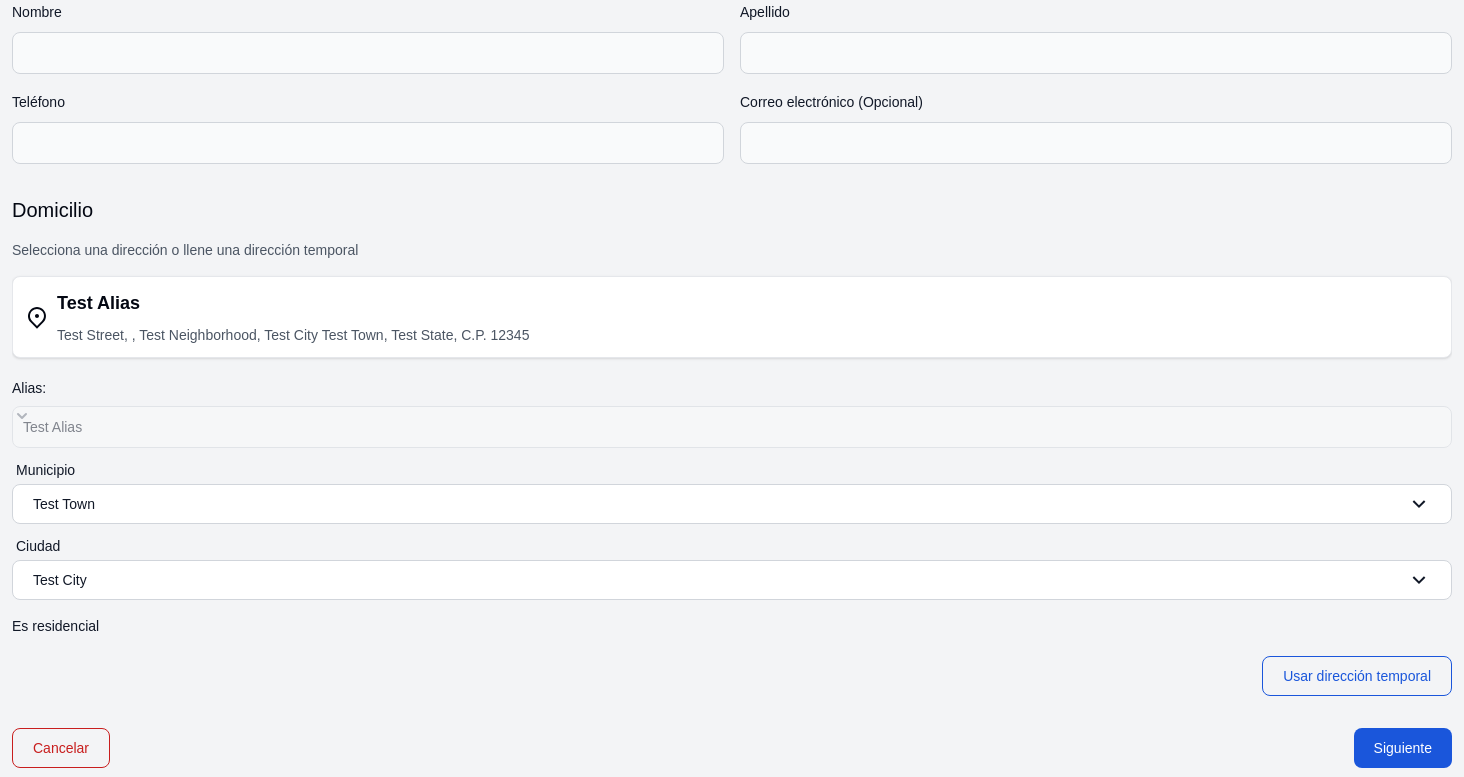
Test: Feature: Add Address for Pkk › Scenario: Display validation errors for required fields › Given empty required fields, When user submits, Then it should show validation errors
When user submits the form
Step 1. Click the button with test id "origin-address-pkk-next-button" → (1403, 748), box [1354,728,1452,768]
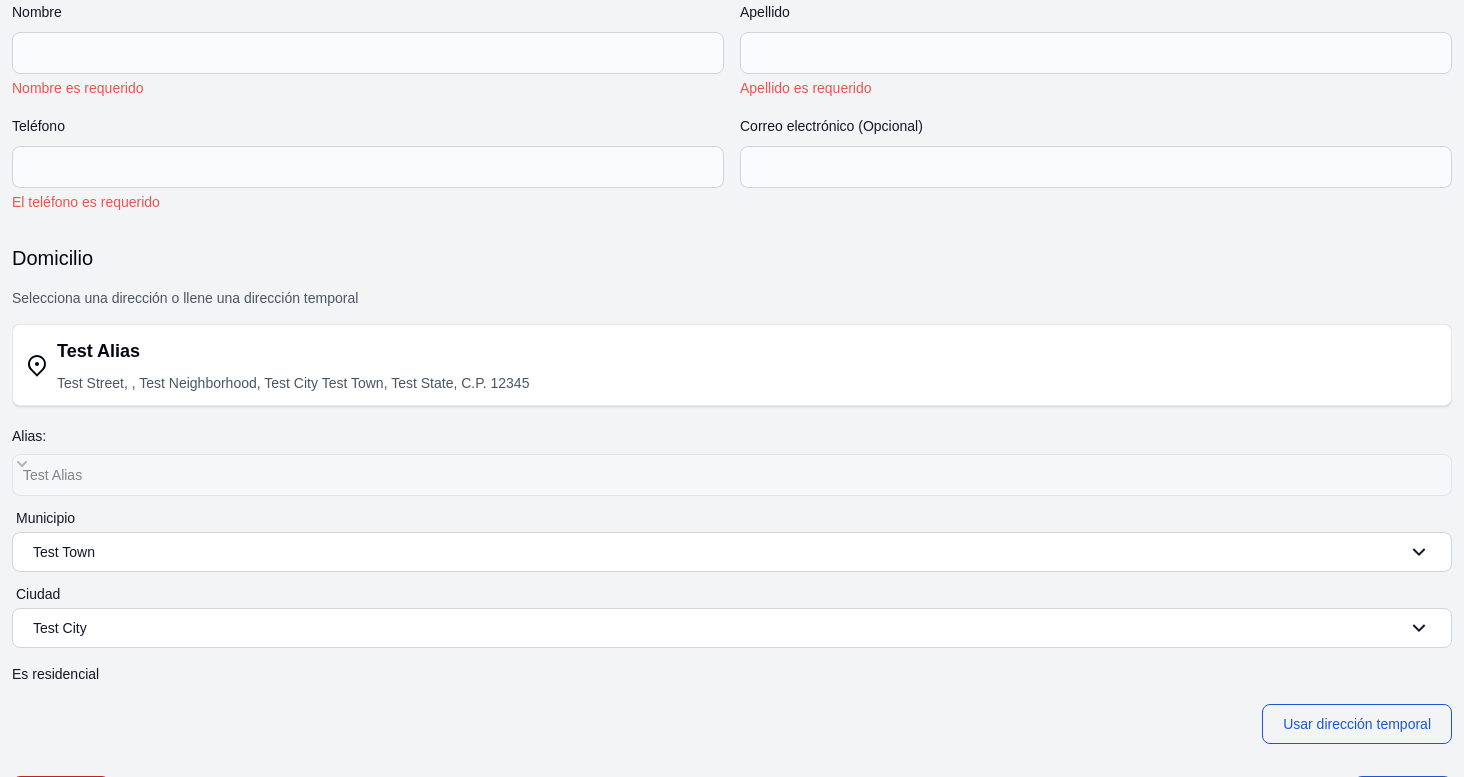
Result: the text "Nombre es requerido" is shown at [12,80,144,96]
Result: the text "El teléfono es requerido" is shown at [12,194,160,210]
